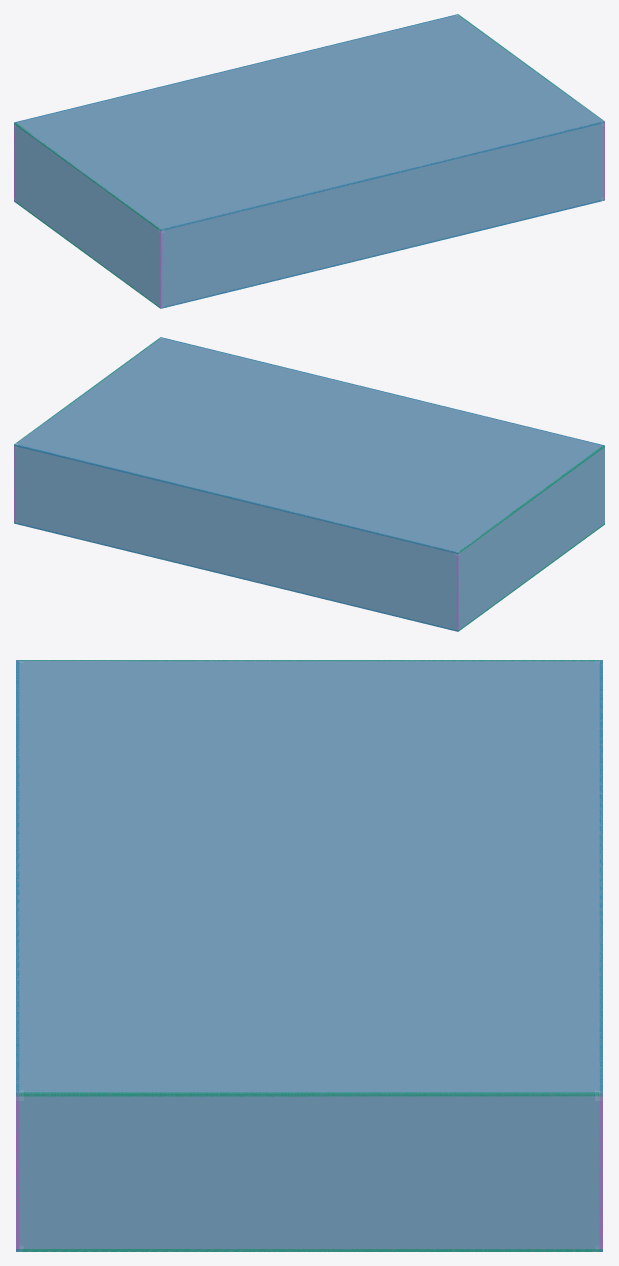
File: total-envelope-total-gpu-msi-geforce-gtx-1050-gaming-x-2g.glb
3 views of the same model, one above another, from view 1: azimuth 30°, elevation 25°; view 2: azimuth 150°, elevation 25°; view 3: azimuth 270°, elevation 25° (orthographic). The views are drawn at different scales.
Visible parts, largest first — view 1: Published outer envelope — not a surface-accurate model, Length guide (×3), Height guide; view 2: Published outer envelope — not a surface-accurate model, Length guide (×3), Height guide; view 3: Published outer envelope — not a surface-accurate model, Height guide (×3), Length guide (×2).
Part boxes in pixels (x1=…): Published outer envelope — not a surface-accurate model: x1=14, y1=15, x2=603, y2=307; Length guide (×3): x1=14, y1=14, x2=604, y2=308; Height guide: x1=14, y1=122, x2=161, y2=230; Published outer envelope — not a surface-accurate model: x1=14, y1=338, x2=604, y2=630; Length guide (×3): x1=14, y1=337, x2=604, y2=631; Height guide: x1=458, y1=445, x2=604, y2=553; Published outer envelope — not a surface-accurate model: x1=16, y1=660, x2=602, y2=1251; Height guide (×3): x1=16, y1=660, x2=602, y2=1251; Length guide (×2): x1=16, y1=660, x2=602, y2=1096.
Bounding box in the file's own units: 0.229 × 0.039 × 0.131.
